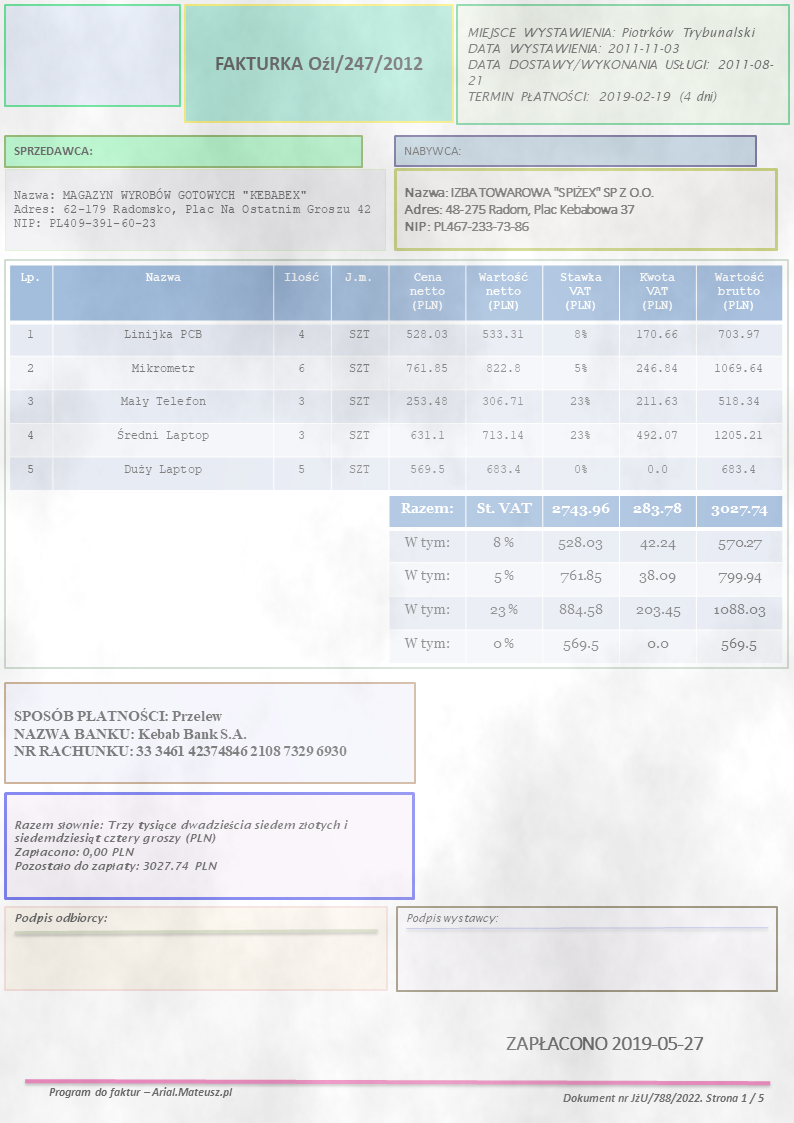Table: (8, 262, 783, 491), (388, 495, 783, 664)
TextBox: (463, 23, 775, 105), (12, 817, 352, 874), (12, 705, 348, 760), (11, 188, 372, 231), (401, 185, 654, 234), (212, 53, 425, 75), (503, 1031, 707, 1053), (560, 1090, 766, 1106), (44, 1084, 236, 1100), (11, 910, 108, 926), (11, 143, 94, 160), (405, 911, 499, 925), (400, 142, 462, 160)
